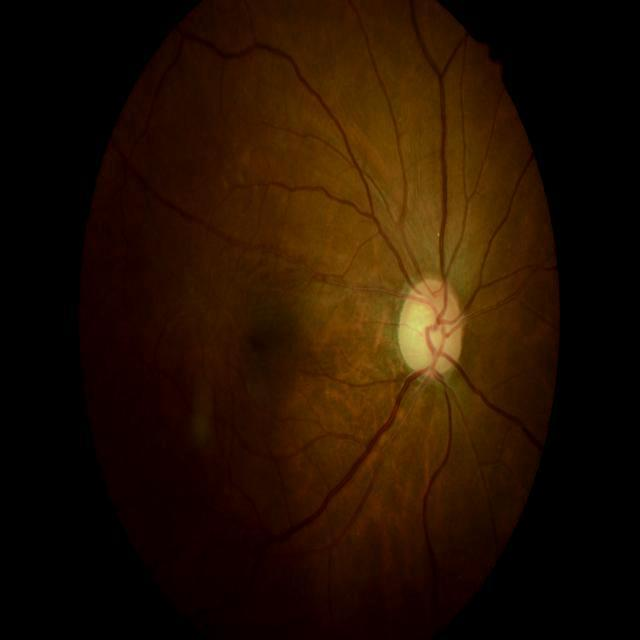cup: (406, 288, 452, 371)
disk: (396, 278, 464, 380)
